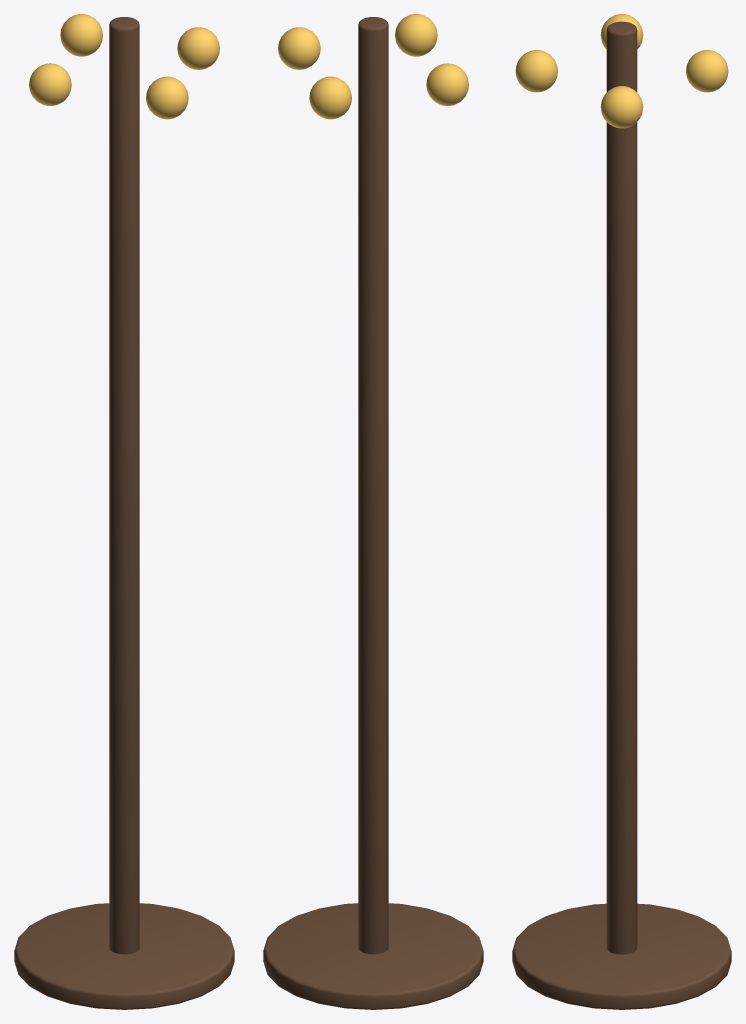
Rendered from coatrack.glb.
3 renders of one model, left to right at view 1: azimuth 30°, elevation 25°; view 2: azimuth 150°, elevation 25°; view 3: azimuth 270°, elevation 25°, orthographic.
Visible parts, largest first — view 1: coatrack; view 2: coatrack; view 3: coatrack.
Boxes of the visible parts, box(x1,y1,x2,y2) form: coatrack: box(14, 14, 234, 1009); coatrack: box(263, 14, 483, 1009); coatrack: box(512, 14, 731, 1009).
Size of the model in its own units: 0.36 by 1.7 by 0.36.
